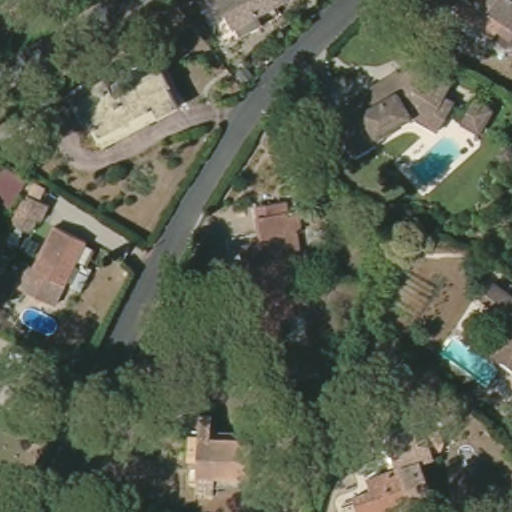pool: (441, 334, 502, 387), (406, 136, 469, 187), (13, 299, 62, 340)
